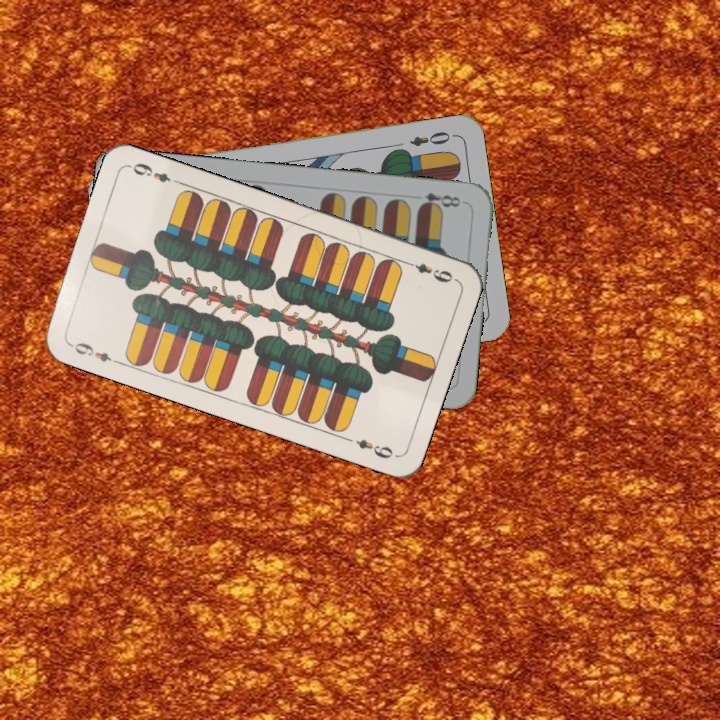E8: (415, 188, 464, 213)
E9: (65, 338, 123, 367), (401, 257, 458, 285)
EO: (406, 127, 453, 149)
